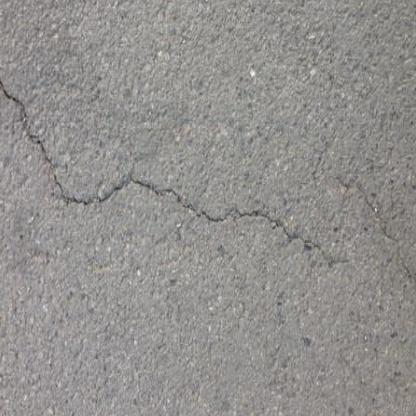Cracks: (0, 0, 352, 268), (326, 170, 414, 284)
